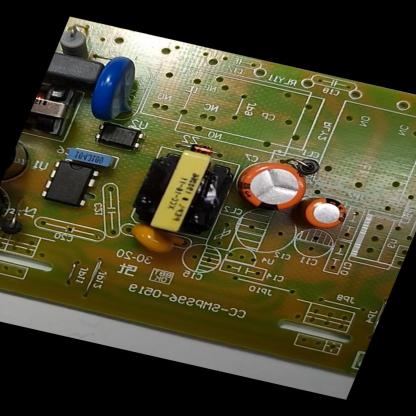Cap1: (224, 149, 324, 225)
Cap2: (286, 186, 359, 238)
Cap3: (0, 134, 47, 194)
Cap4: (0, 177, 31, 242)
MOSFET: (34, 152, 109, 215)
Mov: (77, 50, 159, 129)
Resistor: (54, 21, 106, 64)
Transformer: (120, 139, 248, 244), (21, 78, 90, 144)
